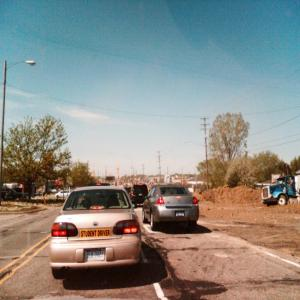Vehicle-registration-plate: (84, 249, 106, 264), (177, 212, 185, 217)
